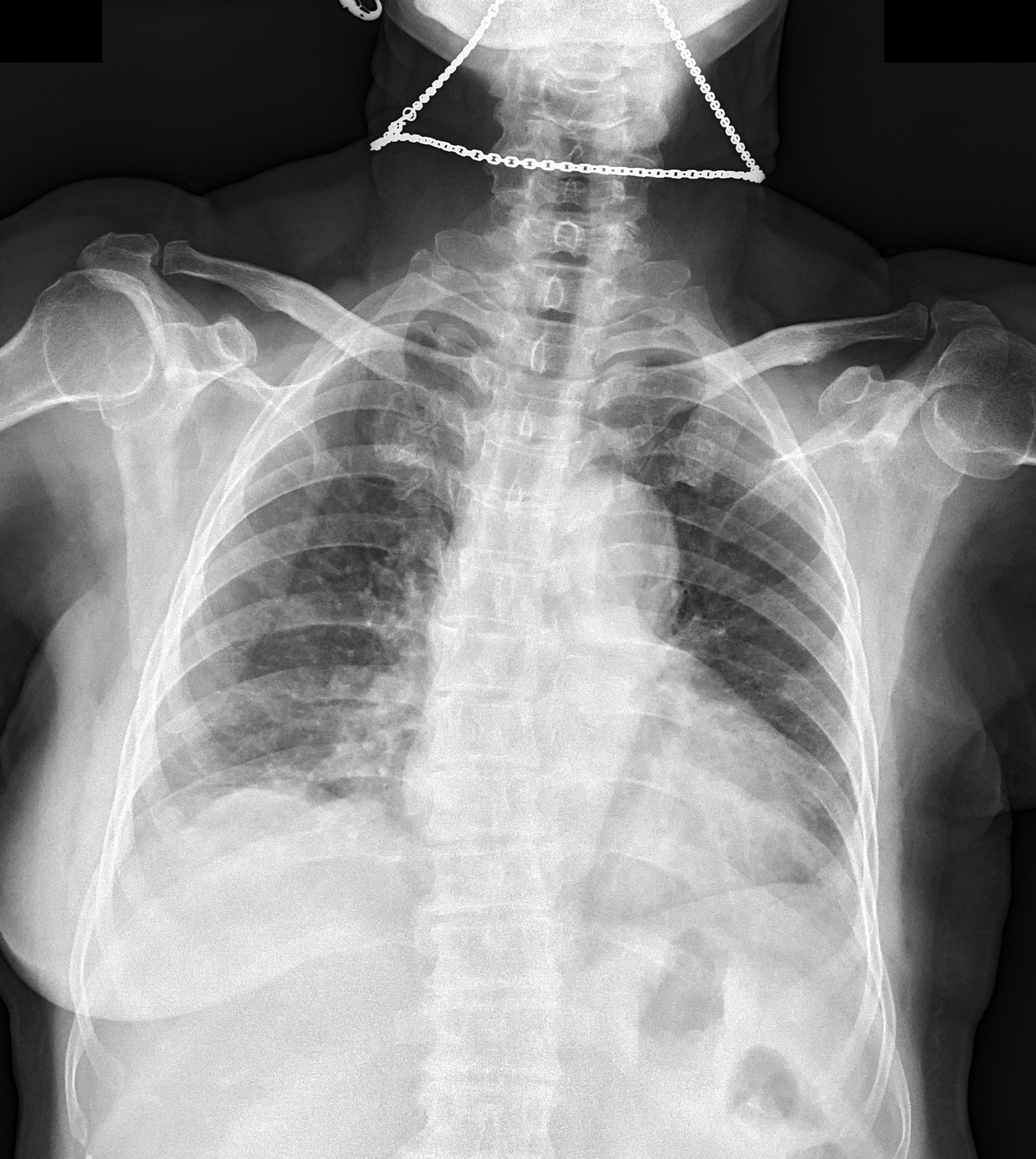Aortic enlargement: (555, 461, 680, 632)
Cardiomegaly: (398, 699, 814, 888)
